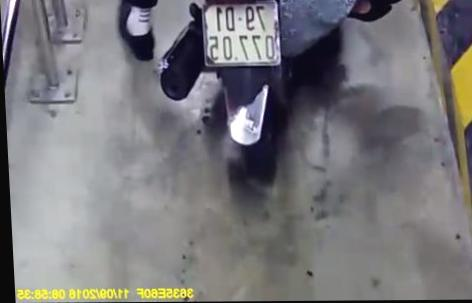License_Plate: (193, 0, 299, 73)
